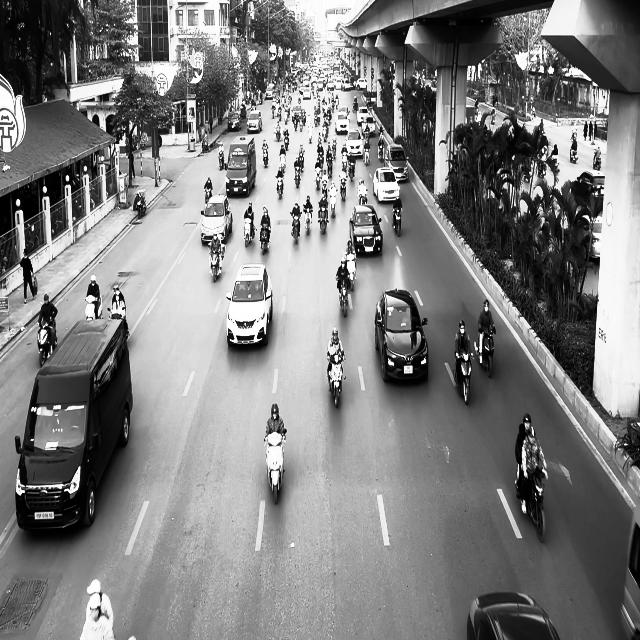car: (374, 288, 428, 383), (466, 591, 560, 639), (225, 263, 273, 347), (349, 204, 383, 256), (200, 194, 232, 245), (372, 167, 400, 202), (384, 143, 408, 182), (345, 128, 364, 157), (246, 110, 262, 133), (227, 111, 241, 131)
motorbike: (514, 464, 547, 543), (264, 430, 286, 504), (454, 349, 474, 405), (475, 326, 496, 377), (37, 317, 57, 366), (327, 353, 345, 407), (208, 242, 224, 282), (336, 272, 350, 316), (290, 212, 302, 244), (259, 223, 271, 254), (346, 254, 356, 290), (134, 190, 146, 218), (392, 204, 402, 236), (302, 204, 312, 234), (244, 216, 254, 246), (275, 172, 284, 198), (293, 161, 301, 188), (204, 186, 212, 204), (262, 148, 268, 167), (218, 151, 224, 170)
truck: (14, 316, 133, 531)
